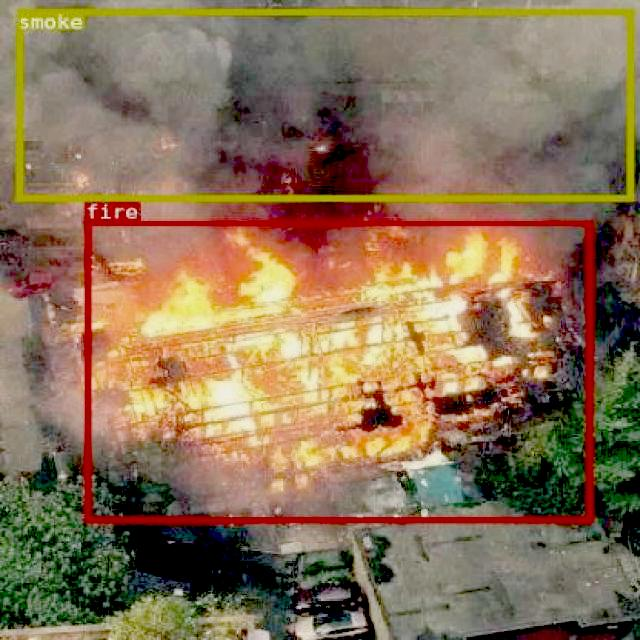fire: (83, 218, 592, 522)
smoke: (15, 8, 632, 200)
